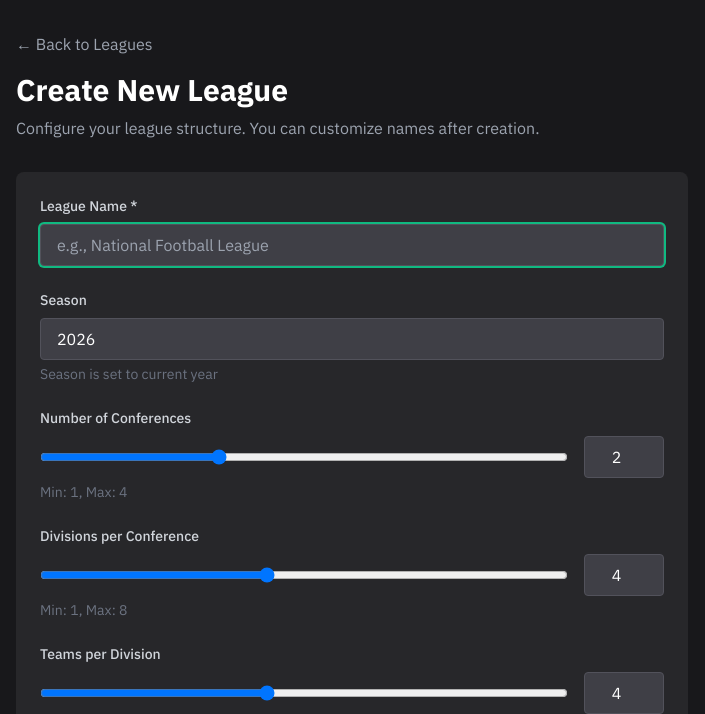
Test: CreateLeaguePage › should calculate and display total teams
Check: the heading "Create New League" is shown, box [16,70,288,109]
Replace the text in the 1st number field showing "2" with "1" at (624, 457), box [584,436,664,478]
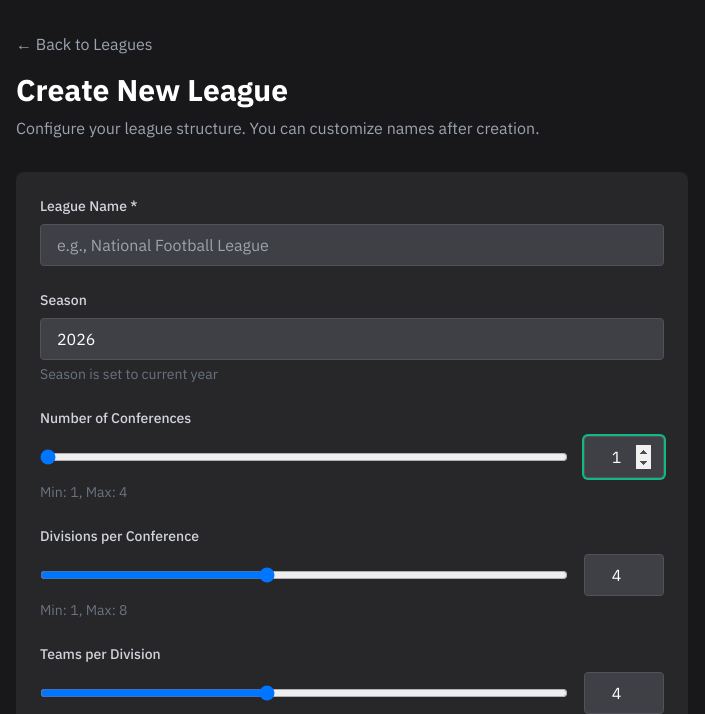
Replace the text in the 2nd number field showing "4" with "2" at (624, 575), box [584,554,664,596]
(page scrolled)
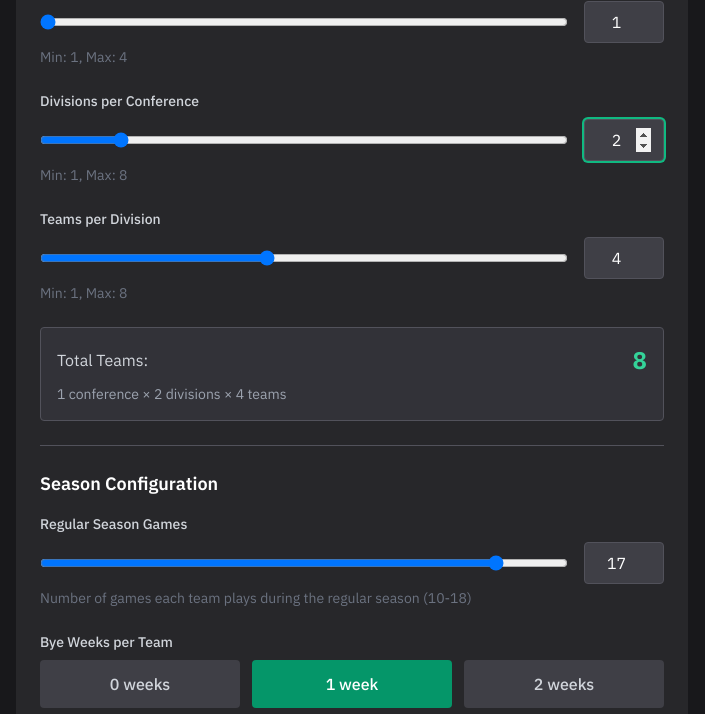
Check: the text "8" is shown, box [633,344,647,376]
